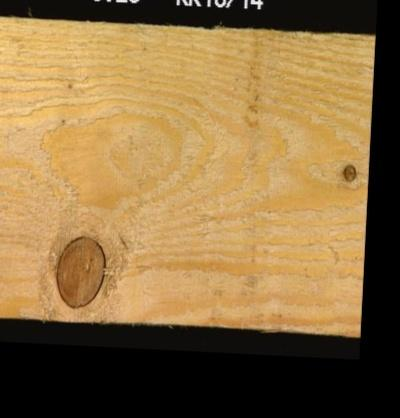dry_knot: (52, 232, 106, 309), (338, 160, 356, 183)
